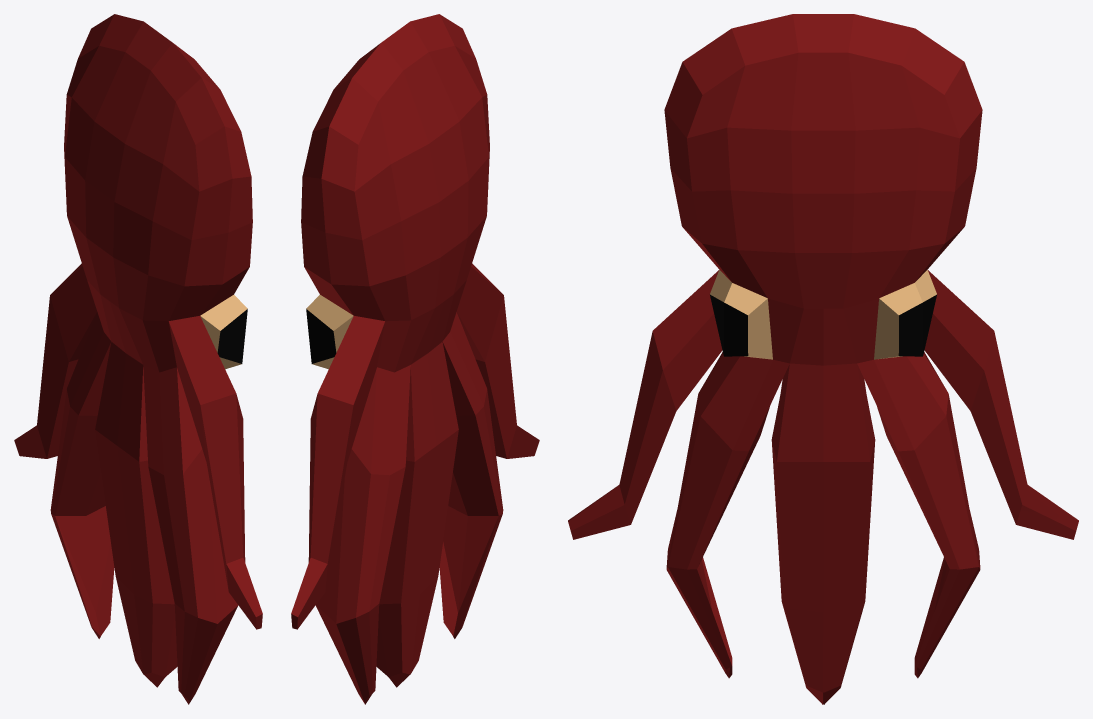
The model's file is Munition_Rebondissant.fbx.
3 views of the same model, side by side, from view 1: azimuth 30°, elevation 25°; view 2: azimuth 150°, elevation 25°; view 3: azimuth 270°, elevation 25° (orthographic). The views are drawn at different scales.
Visible parts, largest first — view 1: Calamar; view 2: Calamar; view 3: Calamar.
Boxes of the visible parts, x1,y1,x2,y2 form: Calamar: [14, 14, 262, 704]; Calamar: [291, 14, 539, 704]; Calamar: [568, 14, 1078, 704].
Size of the model in its own units: 3.99 by 22.61 by 15.14.
